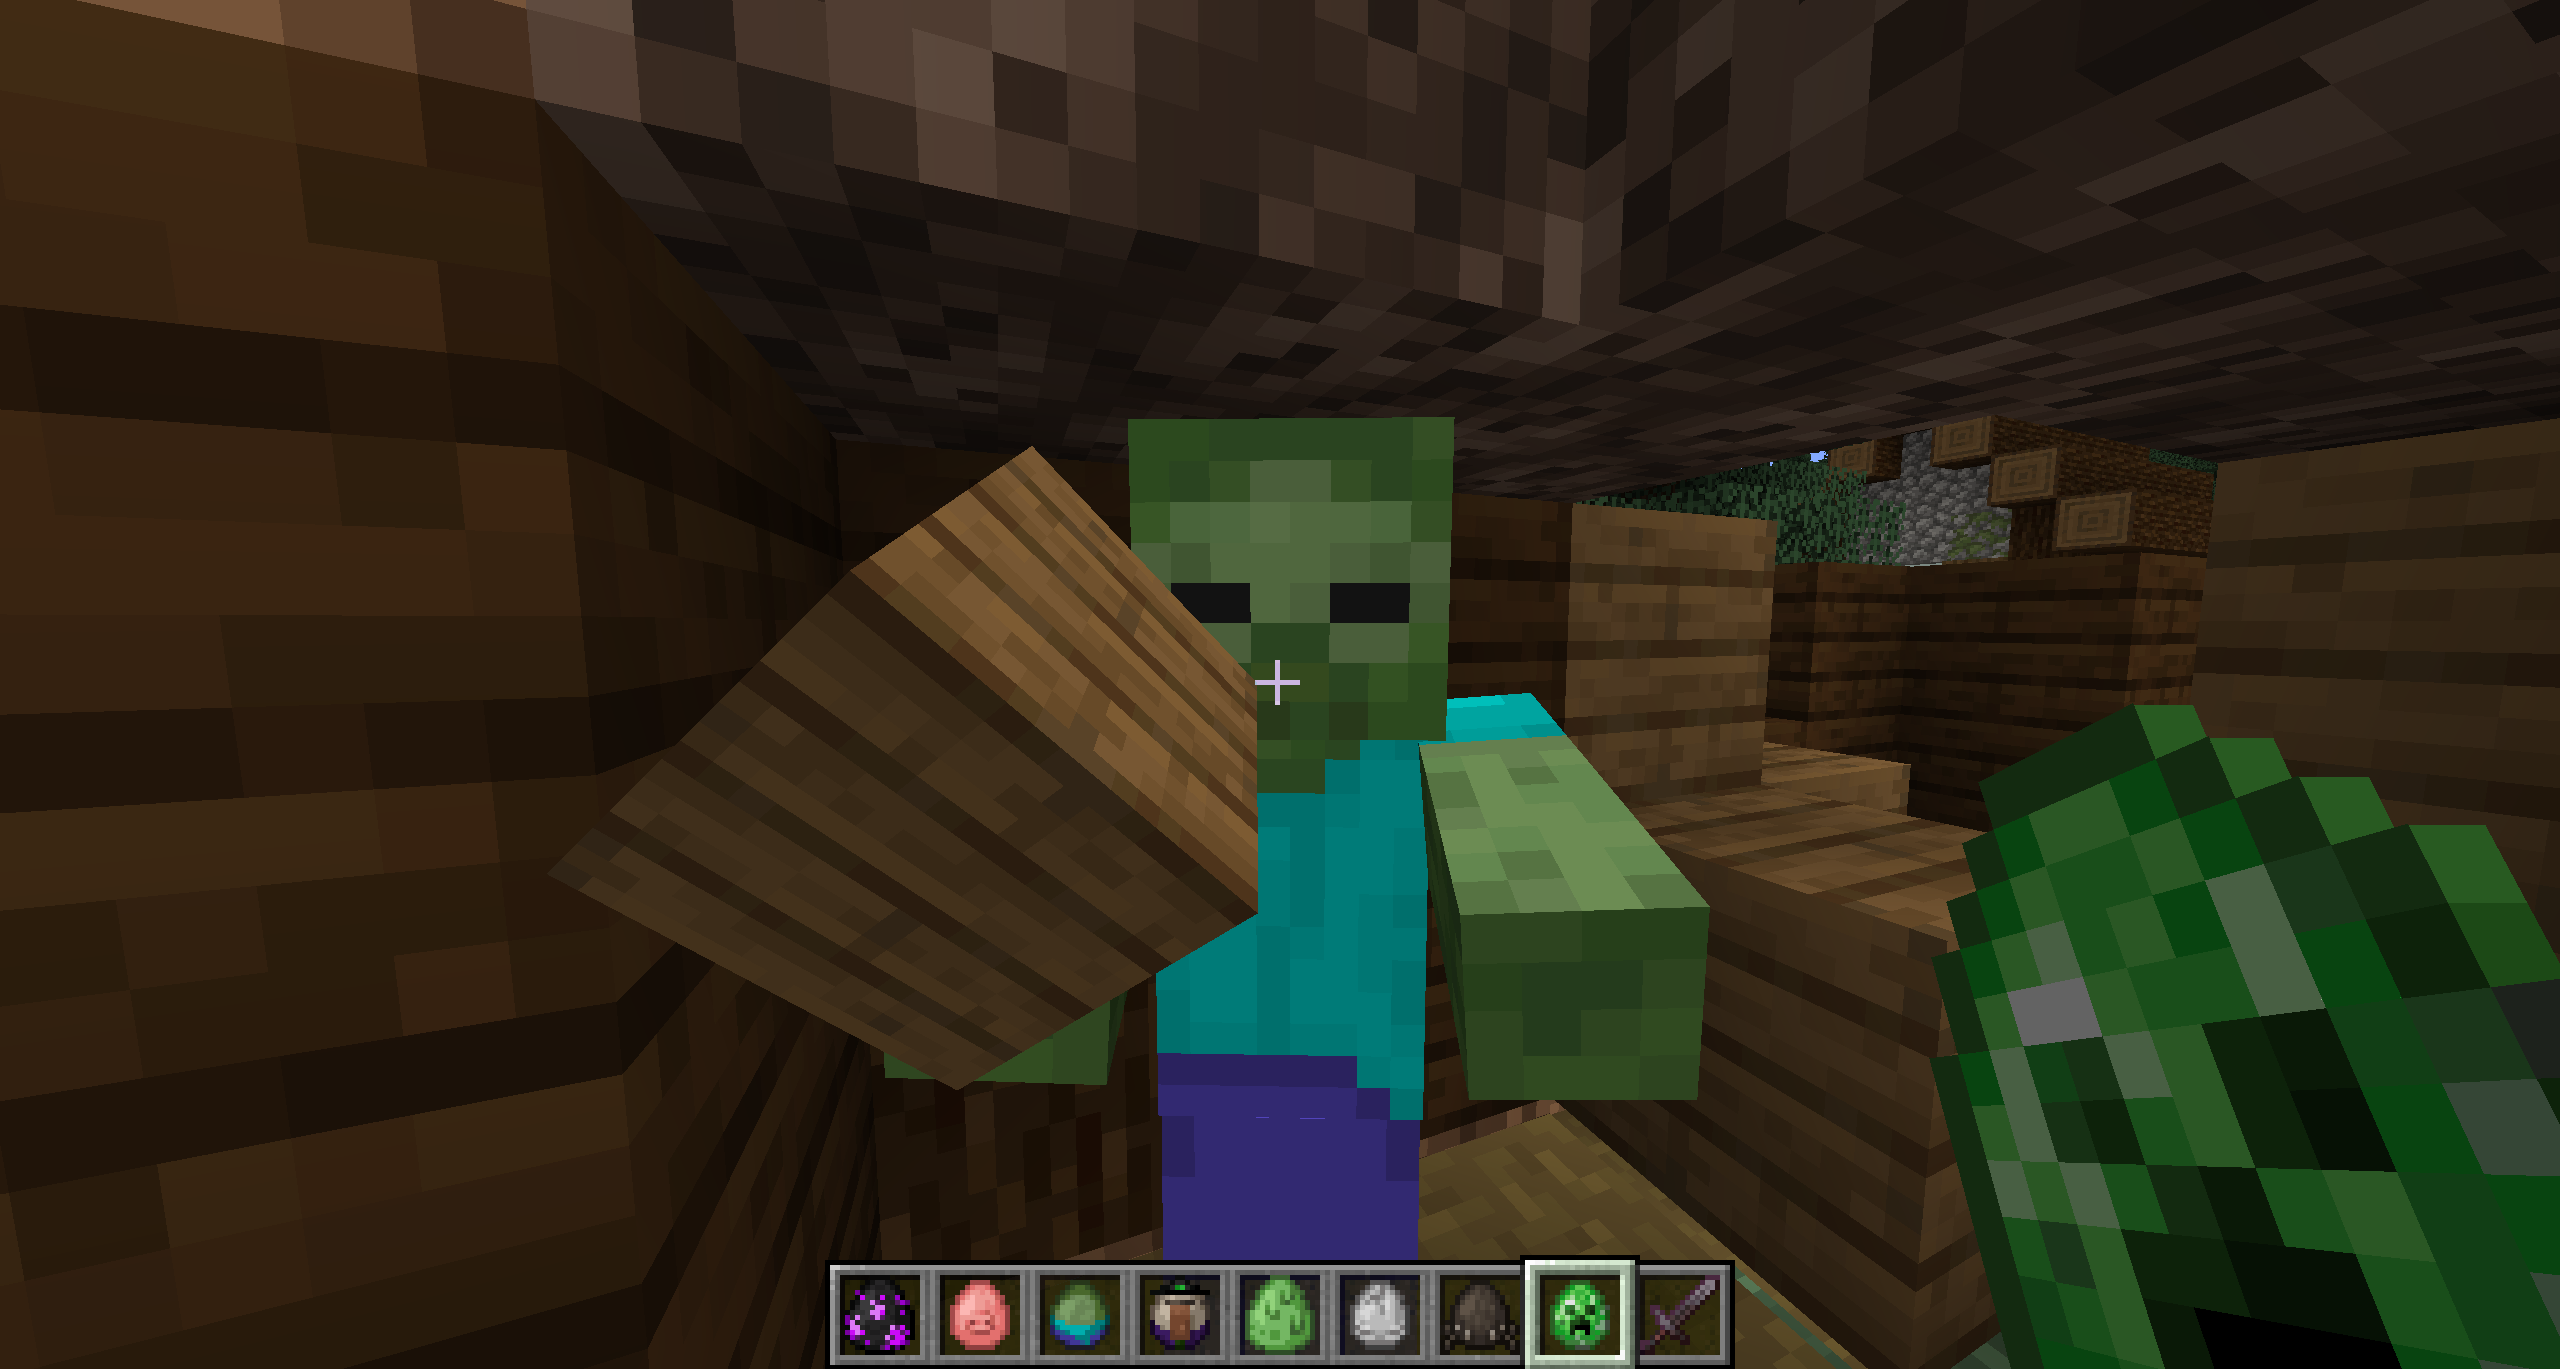zombies: (906, 386, 1712, 1276)
